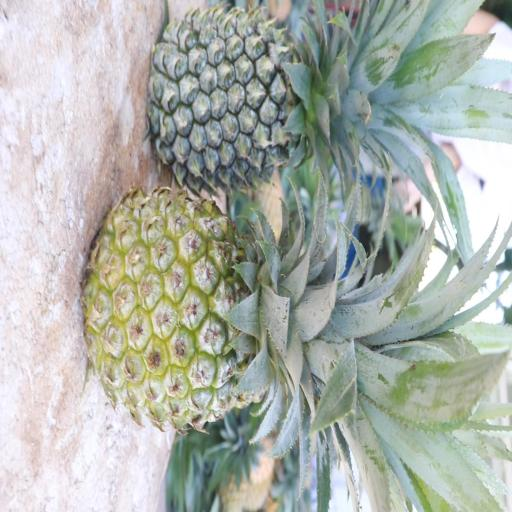------------------------------: (79, 180, 374, 436)
